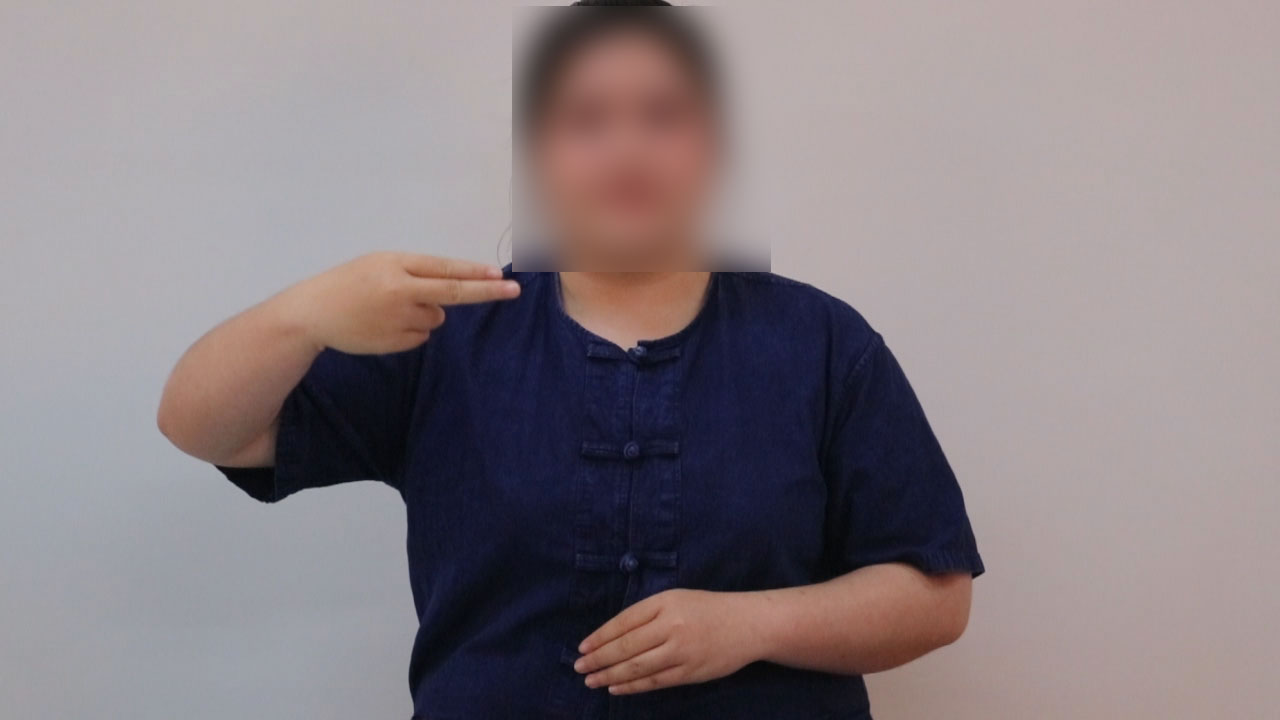hor: (296, 244, 532, 367)
